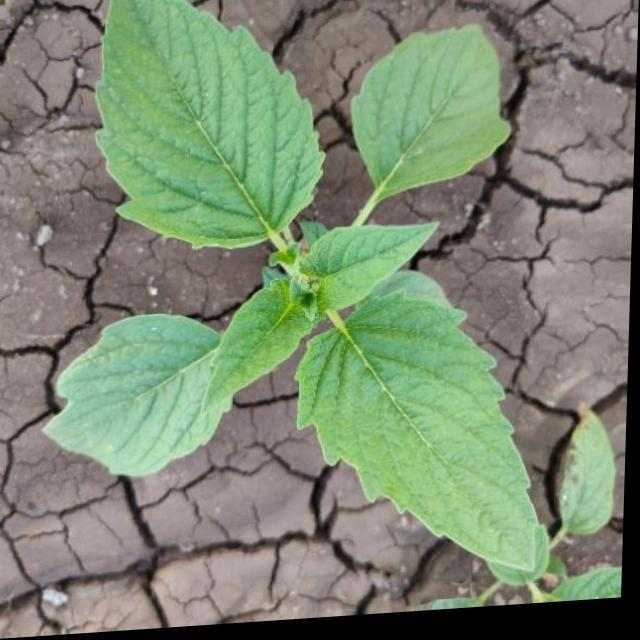crop: (39, 0, 558, 613)
